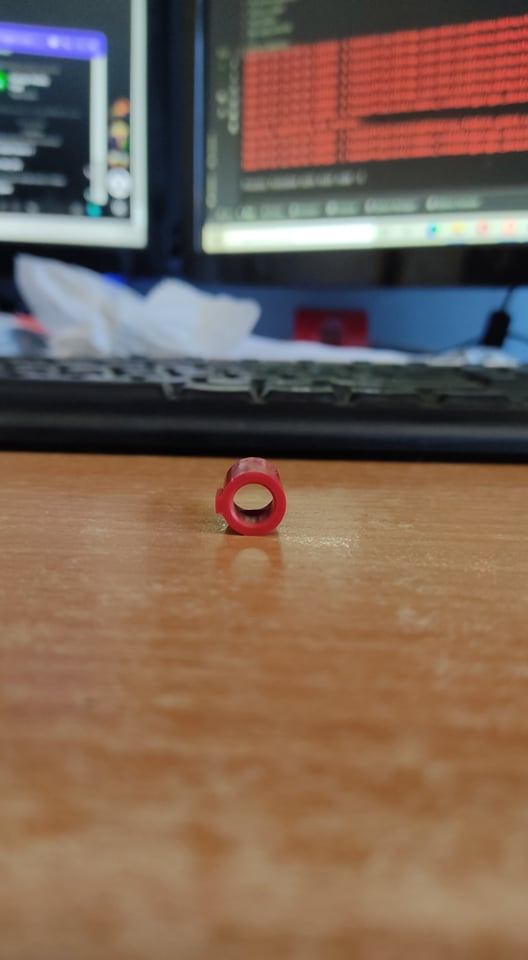red_bucking: (205, 449, 297, 540)
